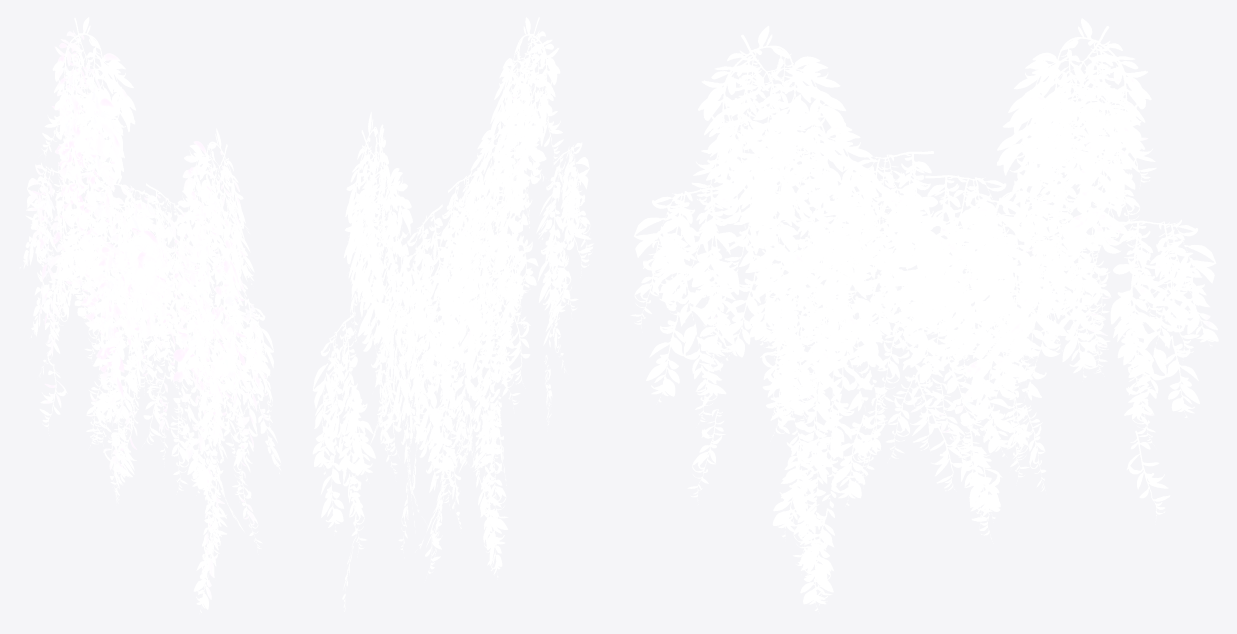
The picture shows the model from 3 angles, left to right: view 1: azimuth 30°, elevation 25°; view 2: azimuth 150°, elevation 25°; view 3: azimuth 270°, elevation 25°; orthographic projection. The views are drawn at different scales.
Parts seen in each view (by area): view 1: SM_FH_Climbing_A_07_LOD0; view 2: SM_FH_Climbing_A_07_LOD0; view 3: SM_FH_Climbing_A_07_LOD0.
Boxes of the visible parts, box(x1,y1,x2,y2) form: SM_FH_Climbing_A_07_LOD0: box(19, 17, 281, 613); SM_FH_Climbing_A_07_LOD0: box(312, 17, 593, 611); SM_FH_Climbing_A_07_LOD0: box(630, 18, 1218, 613).
Bounding box in the file's own units: 0.8381 × 5.69 × 5.07.
Materials: 1 (1 with a texture image).
